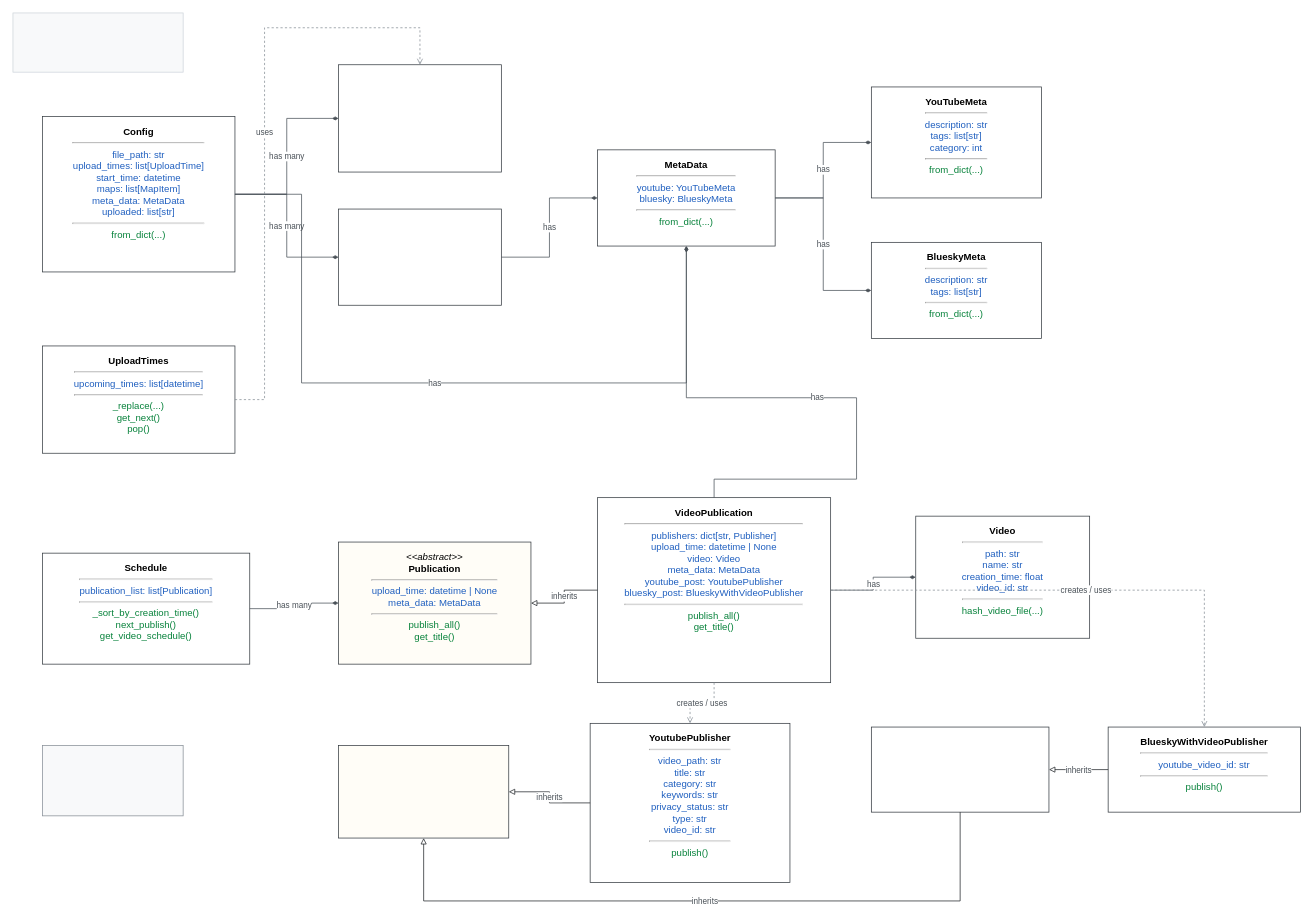
Image size: 1314x920. Some labels were removed from this diagram. The centre of each missing label's shape, as x and y in pixels:
"<<abstract>> Publisher description: str publish()" belongs at [423,791].
"BlueskyPublisher type: str publish()" belongs at [960,769].
"Legend blue = variables / fields green = methods" belongs at [97,42].
"MapItem map: str meta_data: MetaData from_dict(...)" belongs at [419,256].
"Platsforms YOUTUBE BLUESKY" belongs at [112,780].
"UploadTime day: int hour: int minute: int from_dict(...)" belongs at [419,118].
